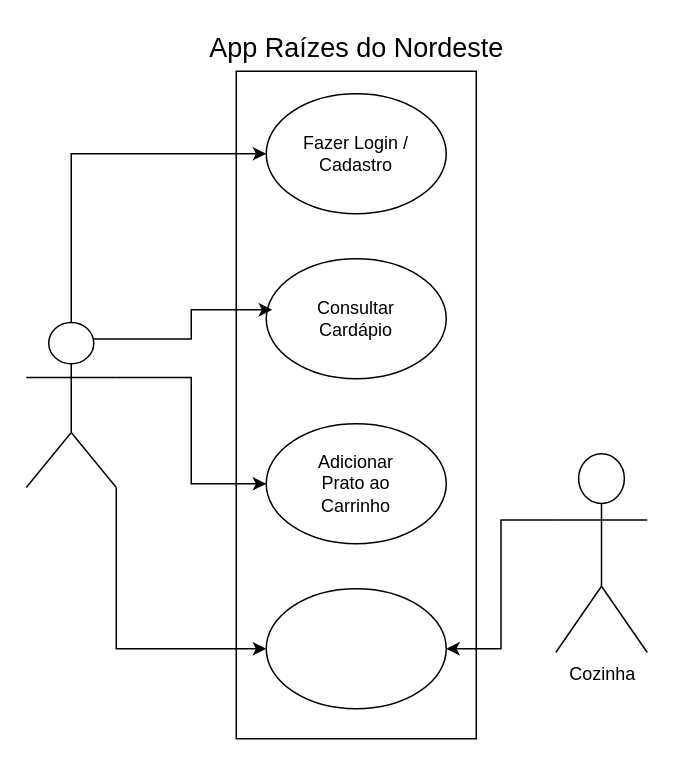
The diagram is 674 pixels wide and 765 high, and some of its shapes have lost their labels. Here are the shapes that lost their labels. From the top down, the centre of each, then its label:
At [70,404]: "Cliente".
At [355,648]: "Finalizar Pedido e Pagar".
